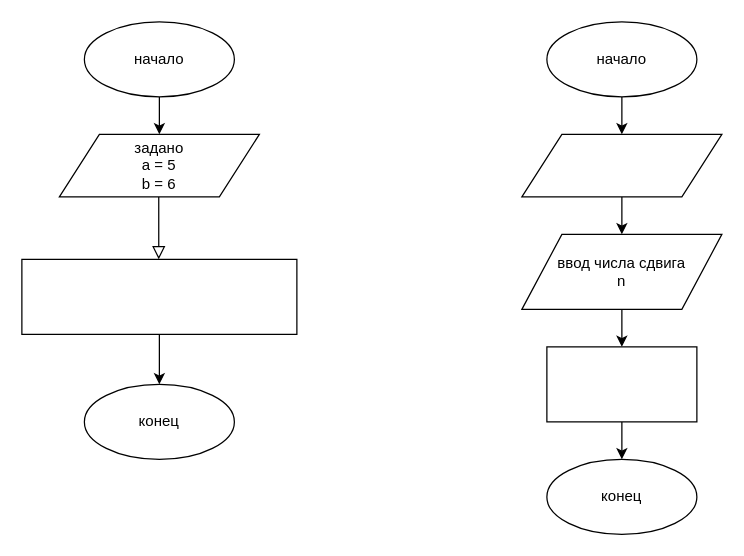
The diagram is 744 pixels wide and 556 high, and some of its shapes have lost their labels. The centre of each missing label's shape, as x and y in pixels:
задано a = 5: (x=621, y=165)
логические побитовые операции m = a OR b m = a AND b m = a XOR b: (x=159, y=296)
сдвиг влево >> сдвиг вправо <<: (x=621, y=384)
